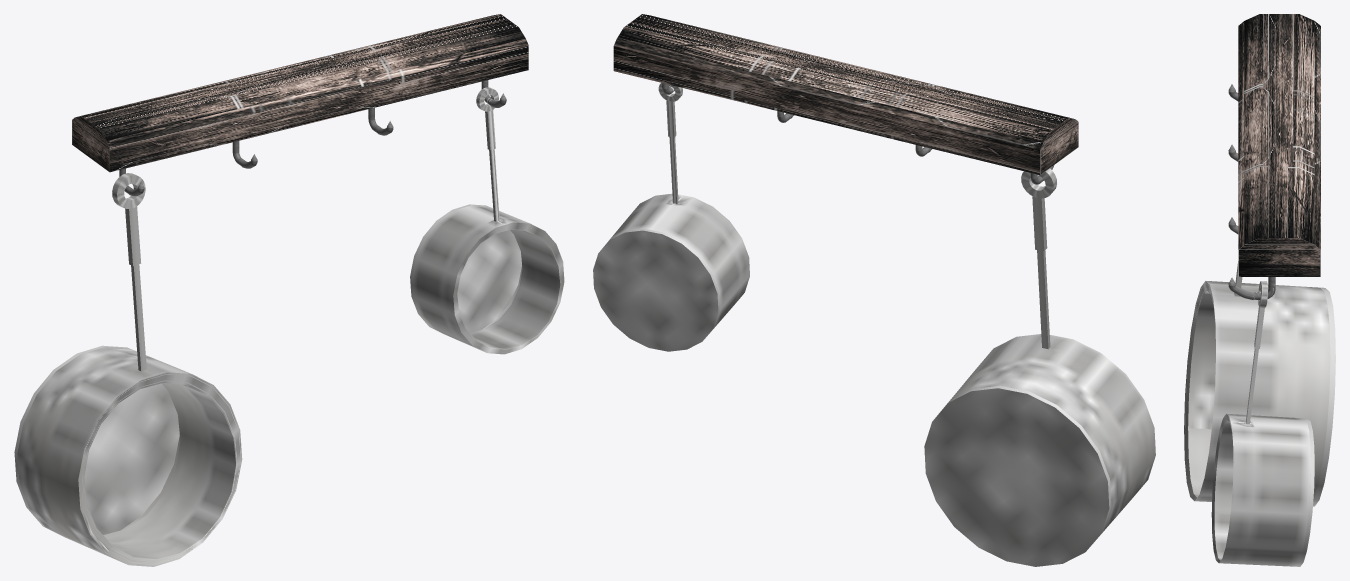
The model's file is PanRackV4.fbx.
3 renders of one model, left to right at view 1: azimuth 30°, elevation 25°; view 2: azimuth 150°, elevation 25°; view 3: azimuth 270°, elevation 25°, orthographic. The views are drawn at different scales.
Parts seen in each view (by area): view 1: pasted__pCylinder3, pCube1, pasted__pasted__pCylinder3; view 2: pasted__pCylinder3, pCube1, pasted__pasted__pCylinder3; view 3: pasted__pCylinder3 (×2), pCube1, pasted__pasted__pCylinder3.
Boxes of the visible parts, x1,y1,x2,y2 form: pasted__pCylinder3: (14,173,242,566); pCube1: (72,14,528,172); pasted__pasted__pCylinder3: (410,87,564,354); pasted__pCylinder3: (924,168,1155,566); pCube1: (613,14,1078,174); pasted__pasted__pCylinder3: (593,82,749,351); pasted__pCylinder3 (×2): (1184,261,1335,506); pCube1: (1238,14,1320,276); pasted__pasted__pCylinder3: (1211,281,1314,566).
Bounding box in the file's own units: 5.66 × 4.52 × 1.33.
